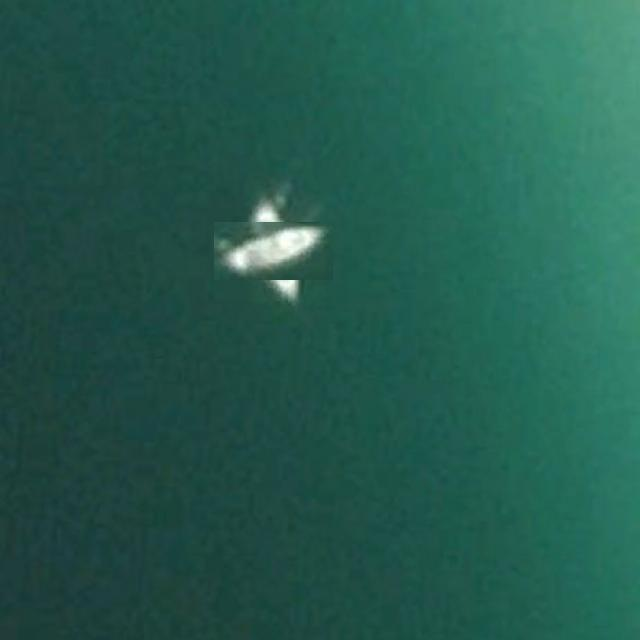boat: (229, 206, 318, 295)
